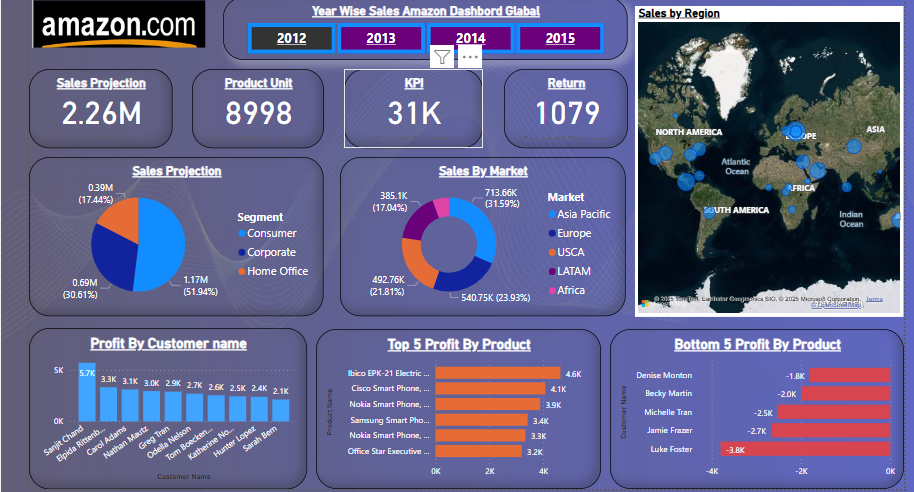

The page's visual inventory and layout, read from the dashboard file:
{"tool":"powerbi","page":{"name":"REPORT 1","canvas":[1280,720],"ordinal":0},"visuals":[{"type":"slicer","title":"Year Wise Sales Amazon  Dashbord Glabal ","fields":{"Values":["Orders.year"]},"box":[283.5,0,592.2,92.3],"z":0},{"type":"card","title":"Sales Projection","fields":{"Values":["Orders.Sales"]},"box":[0,105.7,209.7,115.8],"z":1000},{"type":"image","box":[0,0,263.4,78.8],"z":2000},{"type":"card","title":"KPI","fields":{"Values":["Orders.Quantity"]},"box":[461.3,105.7,203,115.8],"z":3000},{"type":"card","title":"Product  Unit","fields":{"Values":["Orders.Product Name"]},"box":[238.2,105.7,192.9,115.8],"z":4000},{"type":"card","title":"Return","fields":{"Values":["Returns.Returned"]},"box":[694.5,105.7,181.2,115.8],"z":5000},{"type":"pieChart","title":"Sales Projection","fields":{"Y":["Orders.Sales"],"Category":["Orders.Segment"]},"box":[0,234.9,431.1,233.2],"z":6000},{"type":"donutChart","title":"Sales  By Market","fields":{"Y":["Orders.Sales"],"Category":["Orders.Market"]},"box":[454.6,234.9,417.7,233.2],"z":7000},{"type":"columnChart","title":"Profit By Customer name","fields":{"Category":["Orders.Customer Name"],"Y":["Orders.Profit"]},"box":[0,484.4,406.8,235.6],"z":8000},{"type":"clusteredBarChart","title":"Top 5 Profit By Product","fields":{"Y":["Orders.Profit"],"Category":["Orders.Product Name"]},"box":[420,485.9,417.1,234.1],"z":9000},{"type":"clusteredBarChart","title":"Bottom 5 Profit By Product","fields":{"Category":["Orders.Customer Name"],"Y":["Orders.Profit"]},"box":[850.2,485.9,430.2,234.1],"z":10000},{"type":"map","title":"Sales by Region","fields":{"Category":["Orders.Region"],"Size":["Orders.Sales"]},"box":[887.4,13.4,392.6,454.6],"z":11000}]}

Visuals, with their boxes on the page's 1280x720 design canvas (x1, y1, x2, y2). These are canvas units, not pixel positions in the 914x492 screenshot, which may show the page scaled, cropped or inside an application window:
"Year Wise Sales Amazon  Dashbord Glabal " slicer: [left=284, top=0, right=876, bottom=92]
"Sales Projection" card: [left=0, top=106, right=210, bottom=222]
image: [left=0, top=0, right=263, bottom=79]
"KPI" card: [left=461, top=106, right=664, bottom=222]
"Product  Unit" card: [left=238, top=106, right=431, bottom=222]
"Return" card: [left=694, top=106, right=876, bottom=222]
"Sales Projection" pieChart: [left=0, top=235, right=431, bottom=468]
"Sales  By Market" donutChart: [left=455, top=235, right=872, bottom=468]
"Profit By Customer name" columnChart: [left=0, top=484, right=407, bottom=720]
"Top 5 Profit By Product" clusteredBarChart: [left=420, top=486, right=837, bottom=720]
"Bottom 5 Profit By Product" clusteredBarChart: [left=850, top=486, right=1280, bottom=720]
"Sales by Region" map: [left=887, top=13, right=1280, bottom=468]
